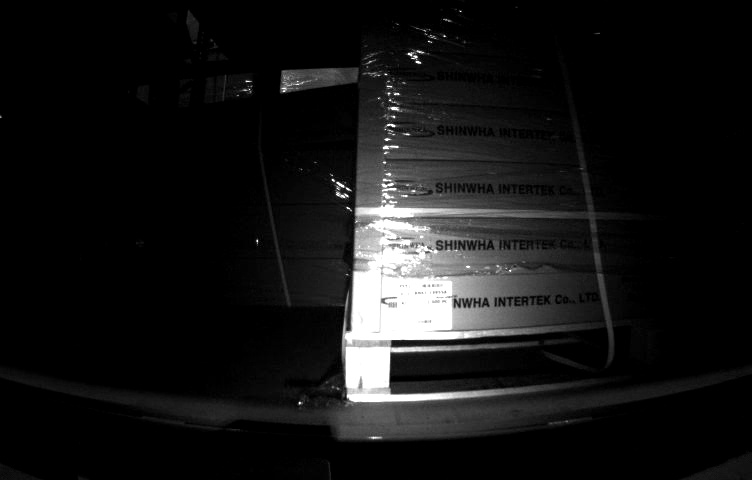True Barcode: (399, 280, 455, 331)
